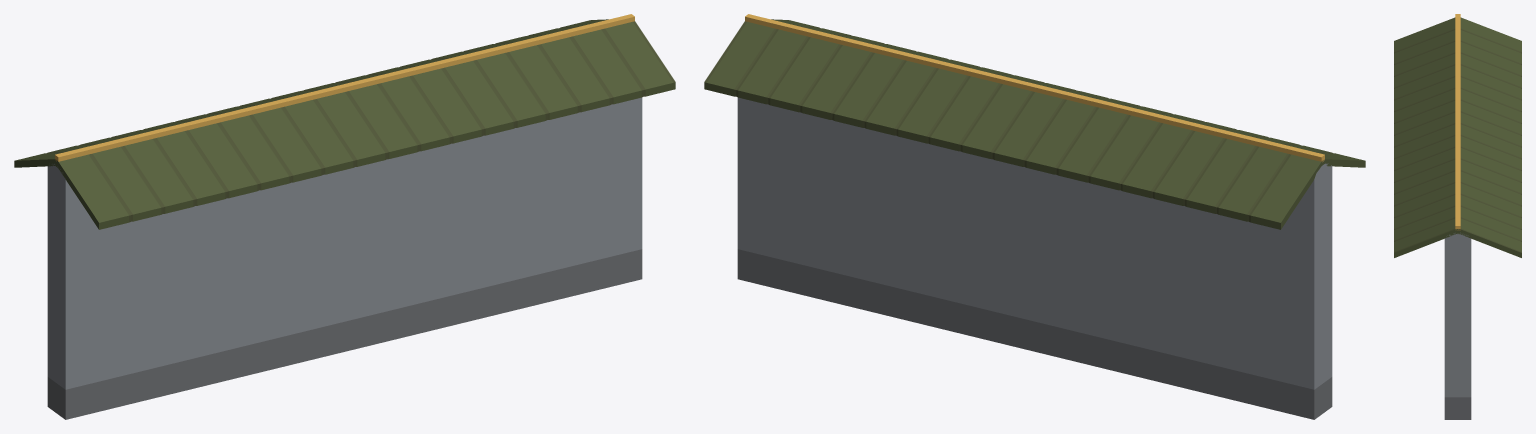
The model's file is Wall_1.fbx.
3 views of the same model, side by side, from view 1: azimuth 30°, elevation 25°; view 2: azimuth 150°, elevation 25°; view 3: azimuth 270°, elevation 25° (orthographic). The views are drawn at different scales.
Parts seen in each view (by area): view 1: Wall_1; view 2: Wall_1; view 3: Wall_1.
Boxes of the visible parts, x1,y1,x2,y2 form: Wall_1: [14, 14, 675, 419]; Wall_1: [704, 14, 1365, 419]; Wall_1: [1394, 14, 1521, 419].
Bounding box in the file's own units: 552 × 235 × 141.
